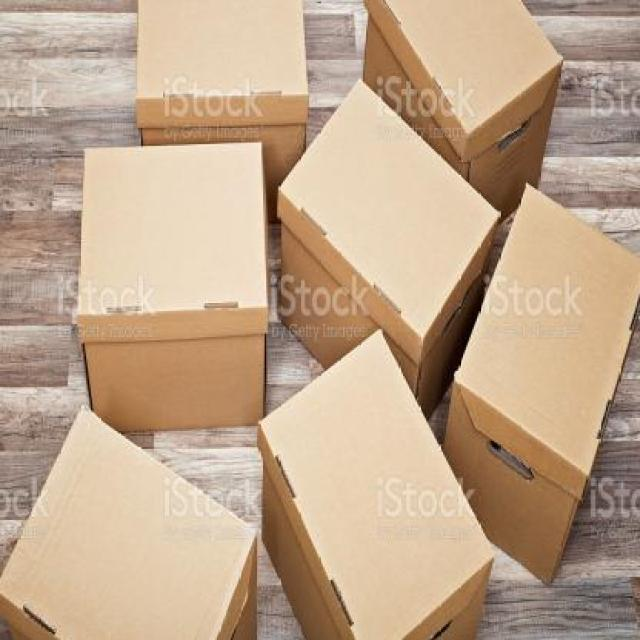box: (446, 165, 640, 590), (249, 312, 493, 640), (274, 81, 504, 395), (0, 393, 264, 640), (72, 142, 288, 433), (361, 0, 596, 238), (129, 0, 313, 165)
